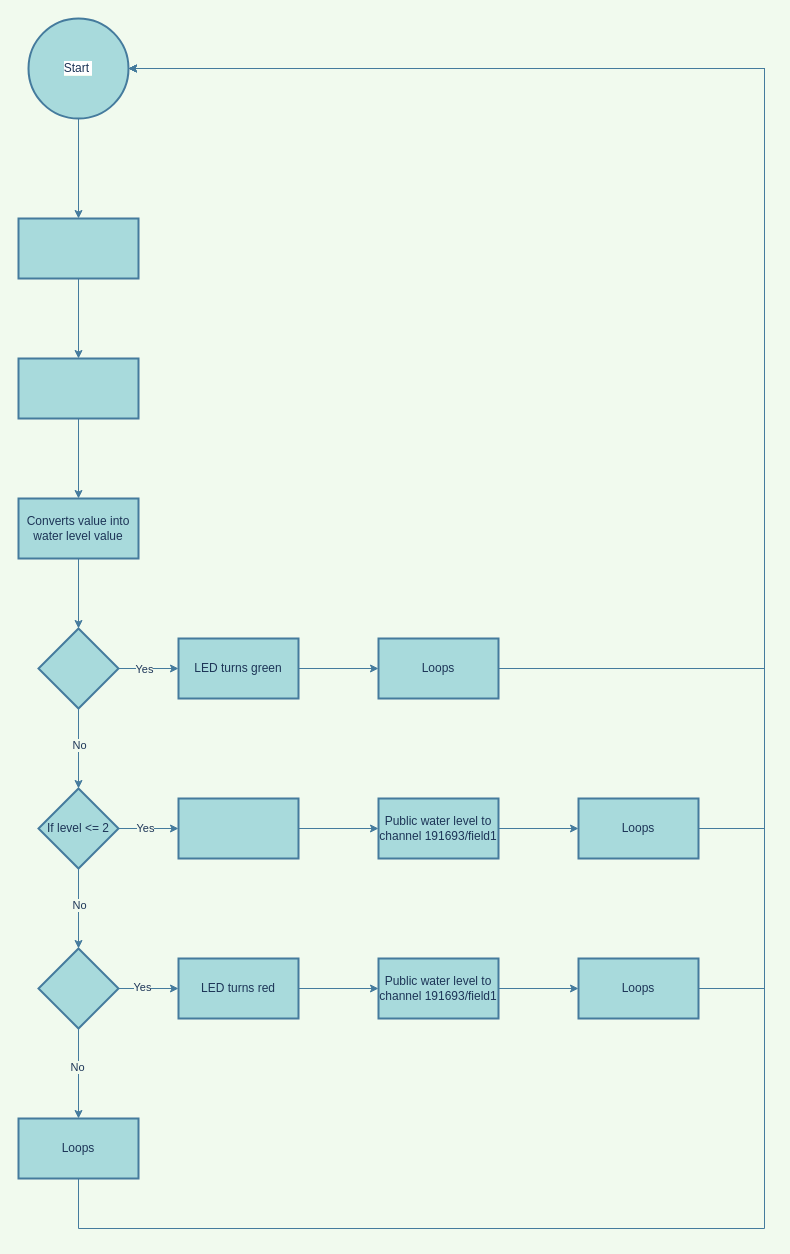
Image size: 790x1254. Some labels were removed from this diagram. The shapes that lost their labels are listed below. From the top down, each one's centre as x and y in pixels, then its label:
(x=78, y=248): Sensor turns on in 10 milliseconds
(x=78, y=388): Reads output value
(x=78, y=668): If level < 1
(x=238, y=828): LED turns yellow
(x=78, y=988): If level > 2
